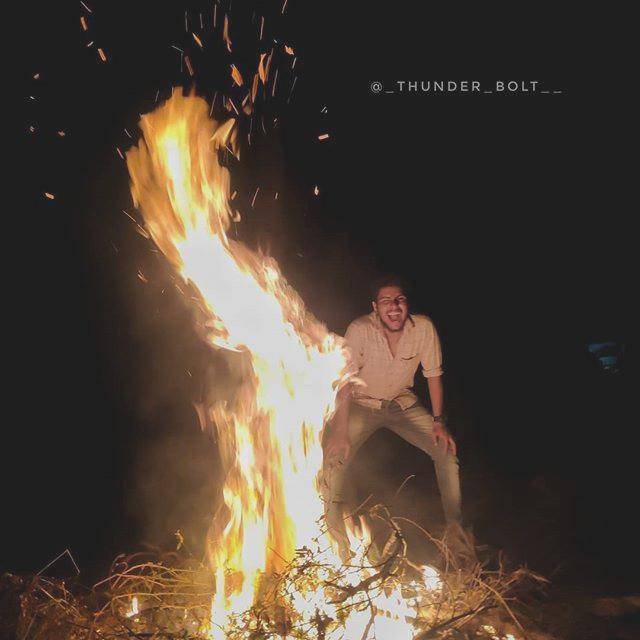Fire: (112, 88, 444, 640)
